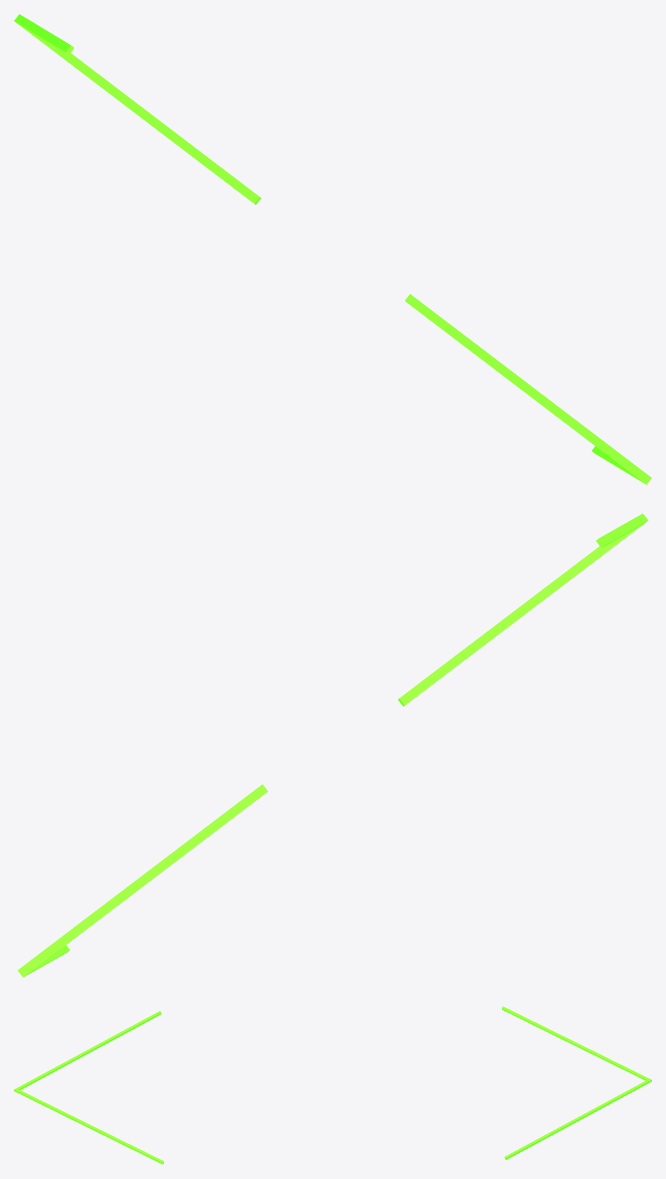
Rendered from prevNext_on.glb.
The picture shows the model from 3 angles, top to bottom: view 1: azimuth 30°, elevation 25°; view 2: azimuth 150°, elevation 25°; view 3: azimuth 270°, elevation 25°; orthographic projection. The views are drawn at different scales.
Visible parts, largest first — view 1: prevNext_on; view 2: prevNext_on; view 3: prevNext_on.
Boxes of the visible parts, left/top/right/bottom form: prevNext_on: left=14, top=14, right=651, bottom=484; prevNext_on: left=17, top=513, right=648, bottom=977; prevNext_on: left=14, top=1006, right=651, bottom=1164.
Bounding box in the file's own units: 0.032 × 0.032 × 0.1683.
